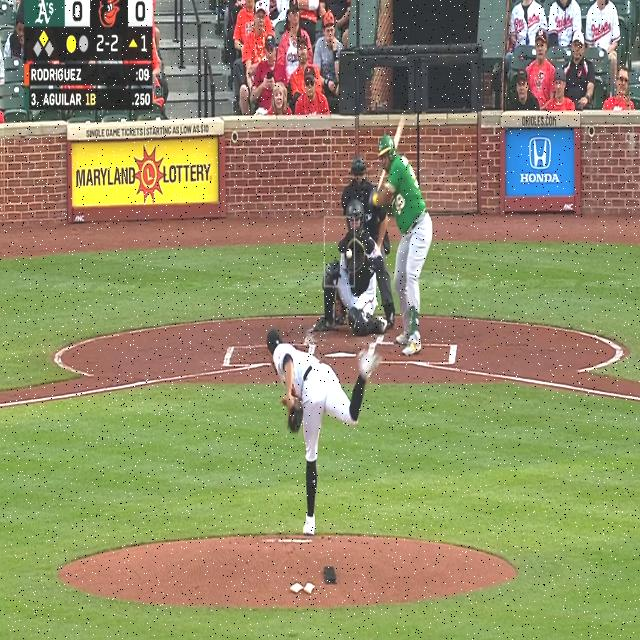baseball: (346, 248, 352, 260)
